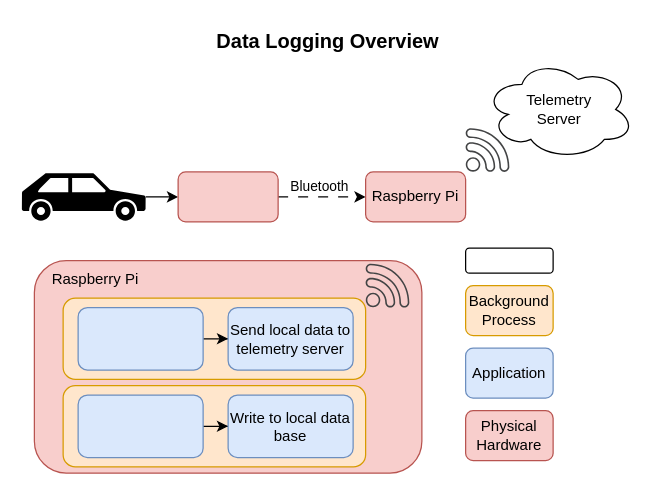
The diagram is 656 pixels wide and 495 high, and some of its shapes have lost their labels. Here are the shapes that lost their labels. From the top down, the centre of each, then its label:
(x=227, y=196): OBD Reader
(x=508, y=260): Legend
(x=140, y=338): Periodic scan for telemetry server
(x=140, y=426): Read and parse OBD data
